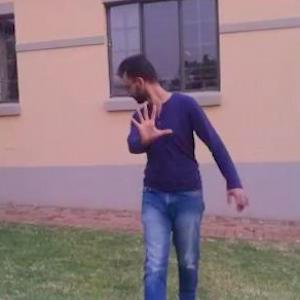follow_hand: (126, 95, 172, 145)
